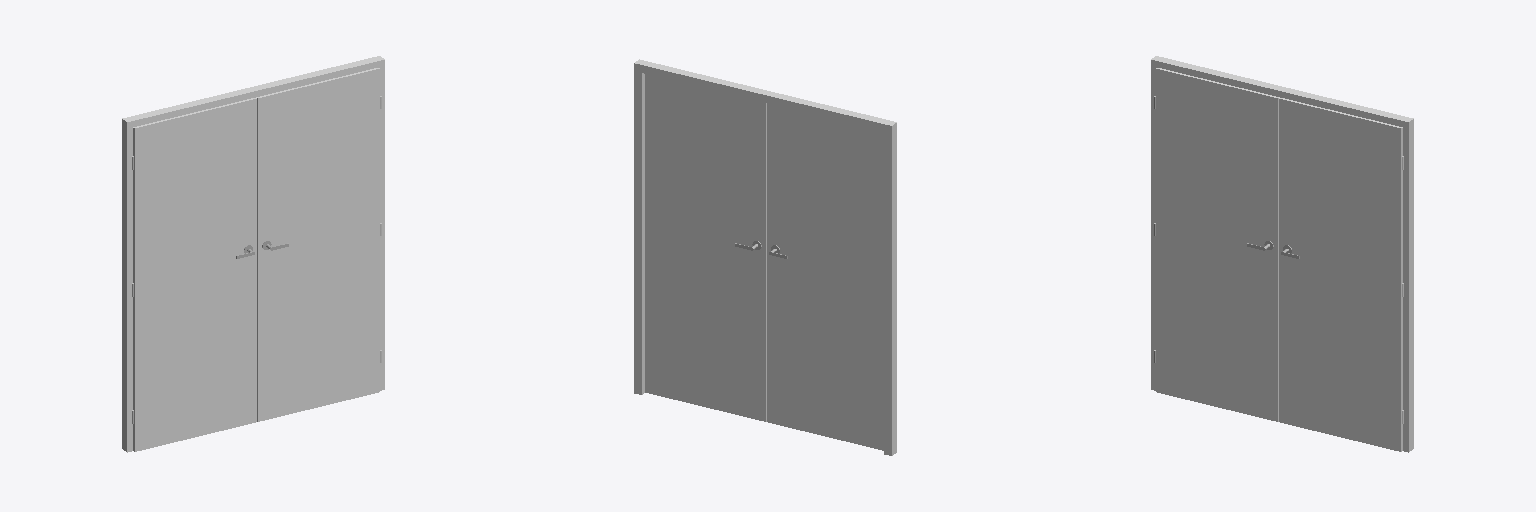
The model's file is double_door.obj.
The picture shows the model from 3 angles: view 1: azimuth 30°, elevation 25°; view 2: azimuth 150°, elevation 25°; view 3: azimuth 330°, elevation 25°; orthographic projection.
Visible parts, largest first — view 1: sweethome3d_opening_on_hinge_1_door, sweethome3d_opening_on_hinge_2_door, frame; view 2: sweethome3d_opening_on_hinge_2_door, sweethome3d_opening_on_hinge_1_door, frame; view 3: sweethome3d_opening_on_hinge_2_door, sweethome3d_opening_on_hinge_1_door, frame.
Boxes of the visible parts, x1,y1,x2,y2 form: sweethome3d_opening_on_hinge_1_door: [133, 97, 256, 451]; sweethome3d_opening_on_hinge_2_door: [257, 68, 379, 421]; frame: [122, 56, 384, 452]; sweethome3d_opening_on_hinge_2_door: [645, 74, 766, 421]; sweethome3d_opening_on_hinge_1_door: [767, 104, 883, 450]; frame: [634, 59, 896, 455]; sweethome3d_opening_on_hinge_2_door: [1279, 98, 1402, 451]; sweethome3d_opening_on_hinge_1_door: [1156, 68, 1279, 421]; frame: [1151, 56, 1413, 452].
Size of the model in its own units: 1.7 by 2.08 by 0.154.